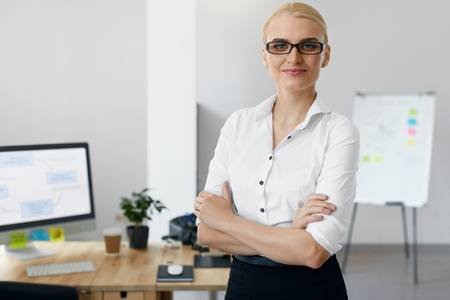F_shirt: (201, 92, 361, 263)
